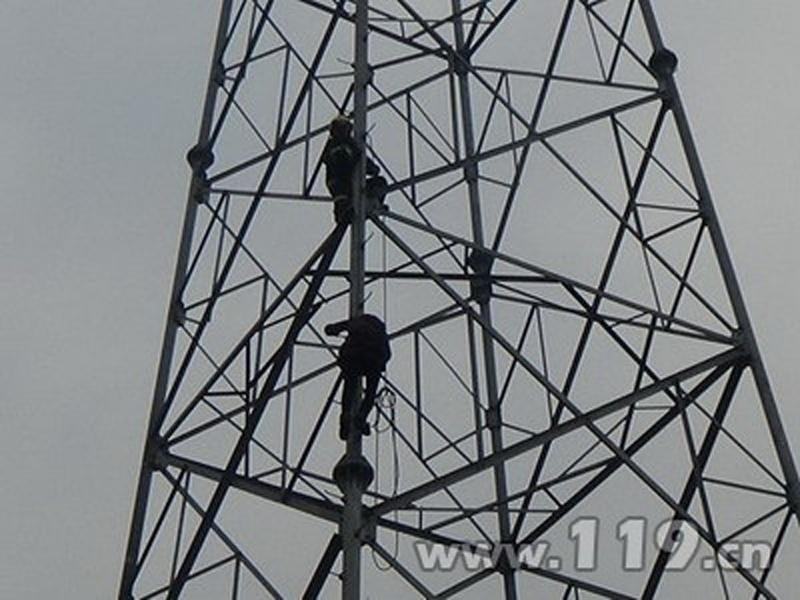power_tower: (106, 9, 795, 594)
